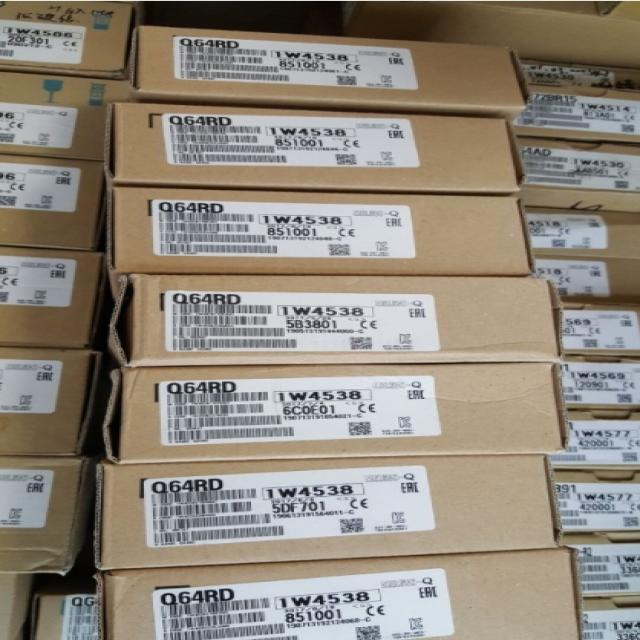box: (95, 454, 567, 569), (101, 364, 568, 464), (92, 547, 583, 639), (106, 276, 567, 365), (133, 25, 527, 122), (109, 189, 533, 276), (109, 104, 521, 193), (0, 71, 130, 162), (0, 1, 139, 80), (0, 349, 101, 457), (0, 247, 104, 347), (0, 154, 107, 251), (0, 456, 87, 575), (516, 61, 640, 142), (511, 136, 640, 212), (524, 208, 640, 258), (533, 254, 640, 304), (551, 472, 640, 532), (550, 411, 640, 470), (563, 536, 640, 598), (560, 356, 640, 410), (560, 303, 640, 356), (31, 593, 103, 639), (0, 571, 41, 638), (579, 600, 640, 639)
